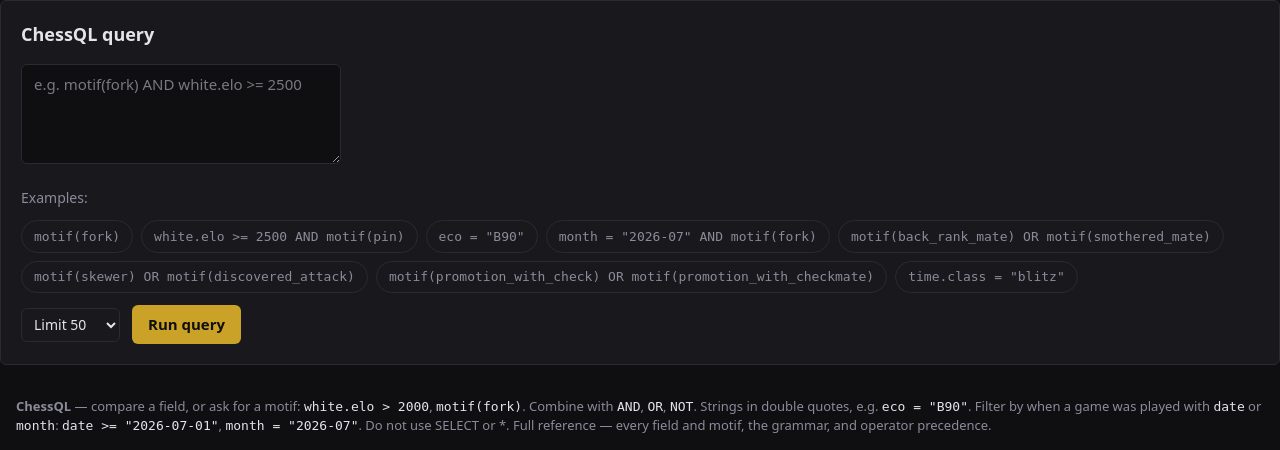
Test case: QueryView › sets textarea value when an example chip is clicked
Click the button "motif(fork)". click: click(77, 236)
box: [21,220,133,253]
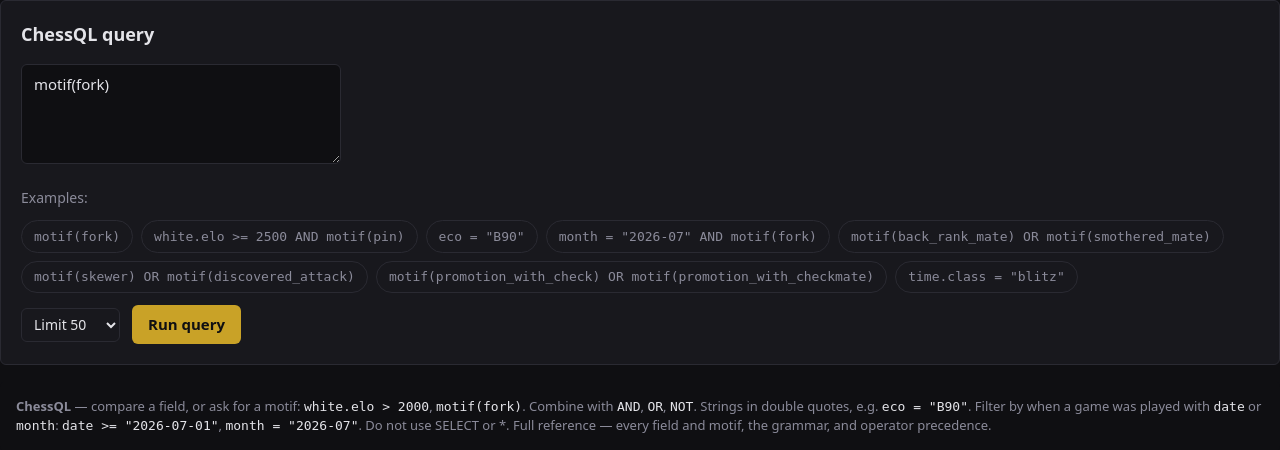
Expected: the text box with placeholder "e.g. motif(fork) AND white.elo >= 2500" holds "motif(fork)", [21,64,341,164]
